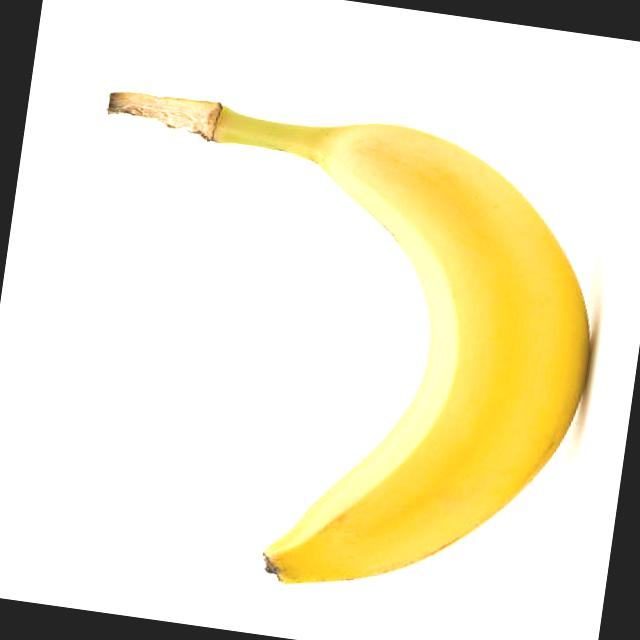Ripe: (139, 96, 622, 630)
